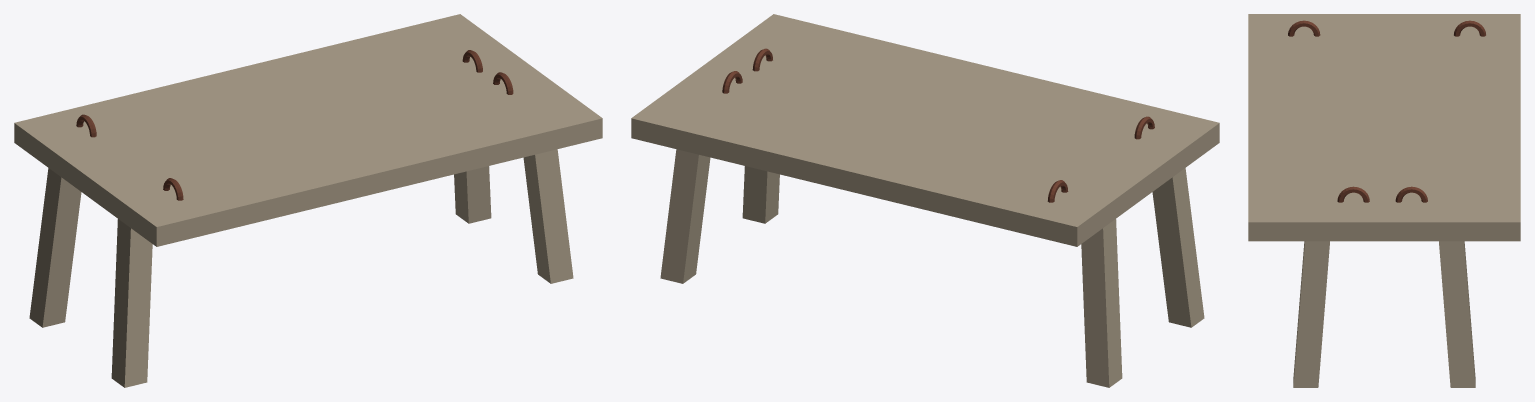
The model's file is TortureTable.fbx.
3 renders of one model, left to right at view 1: azimuth 30°, elevation 25°; view 2: azimuth 150°, elevation 25°; view 3: azimuth 270°, elevation 25°, orthographic. The views are drawn at different scales.
Parts seen in each view (by area): view 1: Cube, Cube.001; view 2: Cube, Cube.001; view 3: Cube, Cube.001, Torus.001, Torus.002, Torus.003, Torus.
Part boxes in pixels (bbox=[...]): Cube: bbox=[14, 14, 602, 246]; Cube.001: bbox=[29, 149, 573, 387]; Cube: bbox=[631, 14, 1219, 246]; Cube.001: bbox=[660, 149, 1204, 387]; Cube: bbox=[1248, 14, 1520, 241]; Cube.001: bbox=[1293, 241, 1475, 387]; Torus.001: bbox=[1288, 20, 1320, 36]; Torus.002: bbox=[1337, 186, 1369, 202]; Torus.003: bbox=[1395, 186, 1427, 202]; Torus: bbox=[1454, 20, 1485, 36].
Size of the model in its own units: 368 by 148 by 200.
